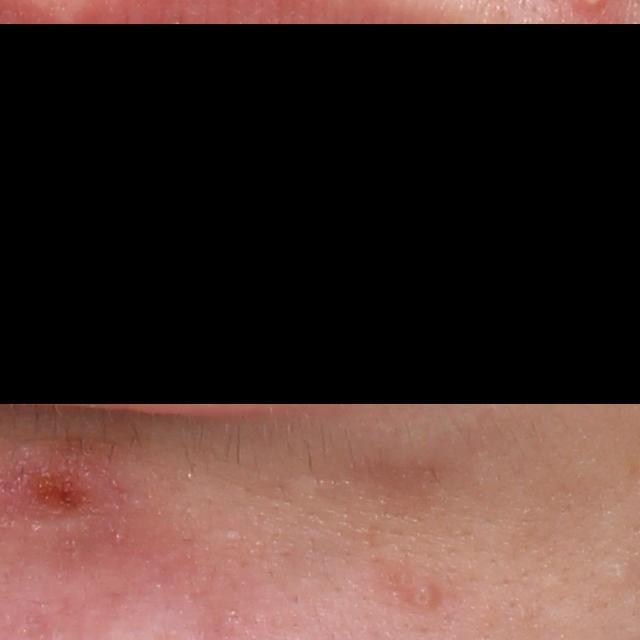pustule: (408, 583, 435, 609)
